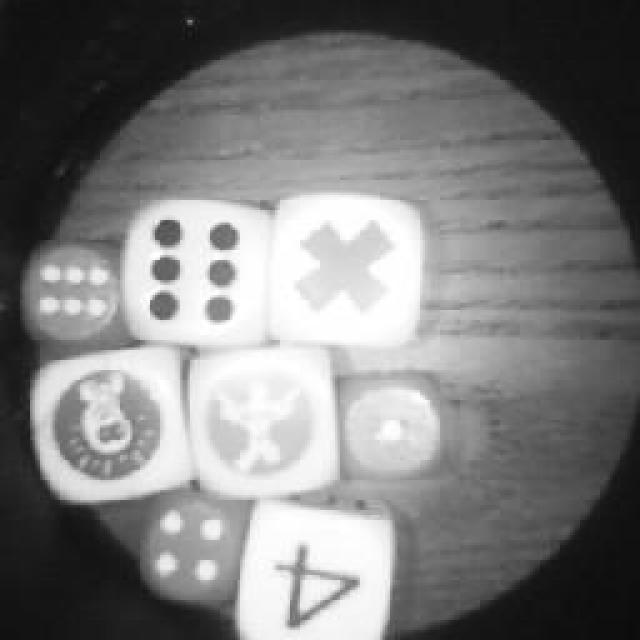dice_1: (328, 368, 462, 492)
dice_4: (128, 480, 262, 612)
dice_6: (118, 190, 280, 362), (18, 235, 138, 357)
